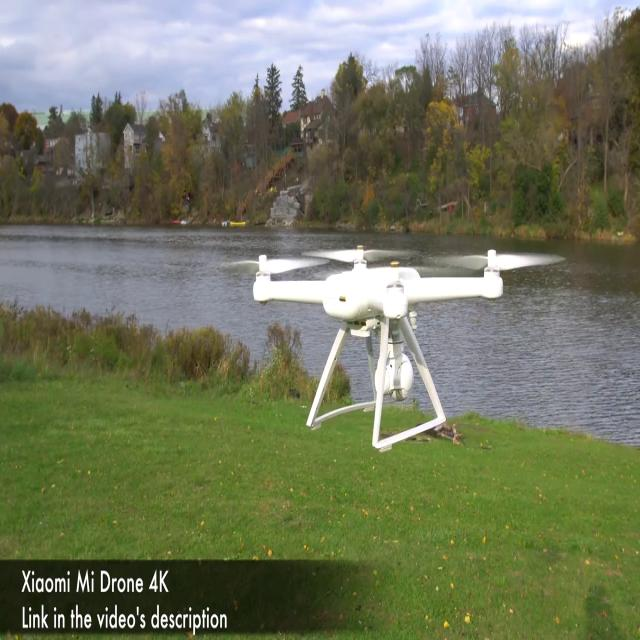drone: (232, 219, 574, 446)
